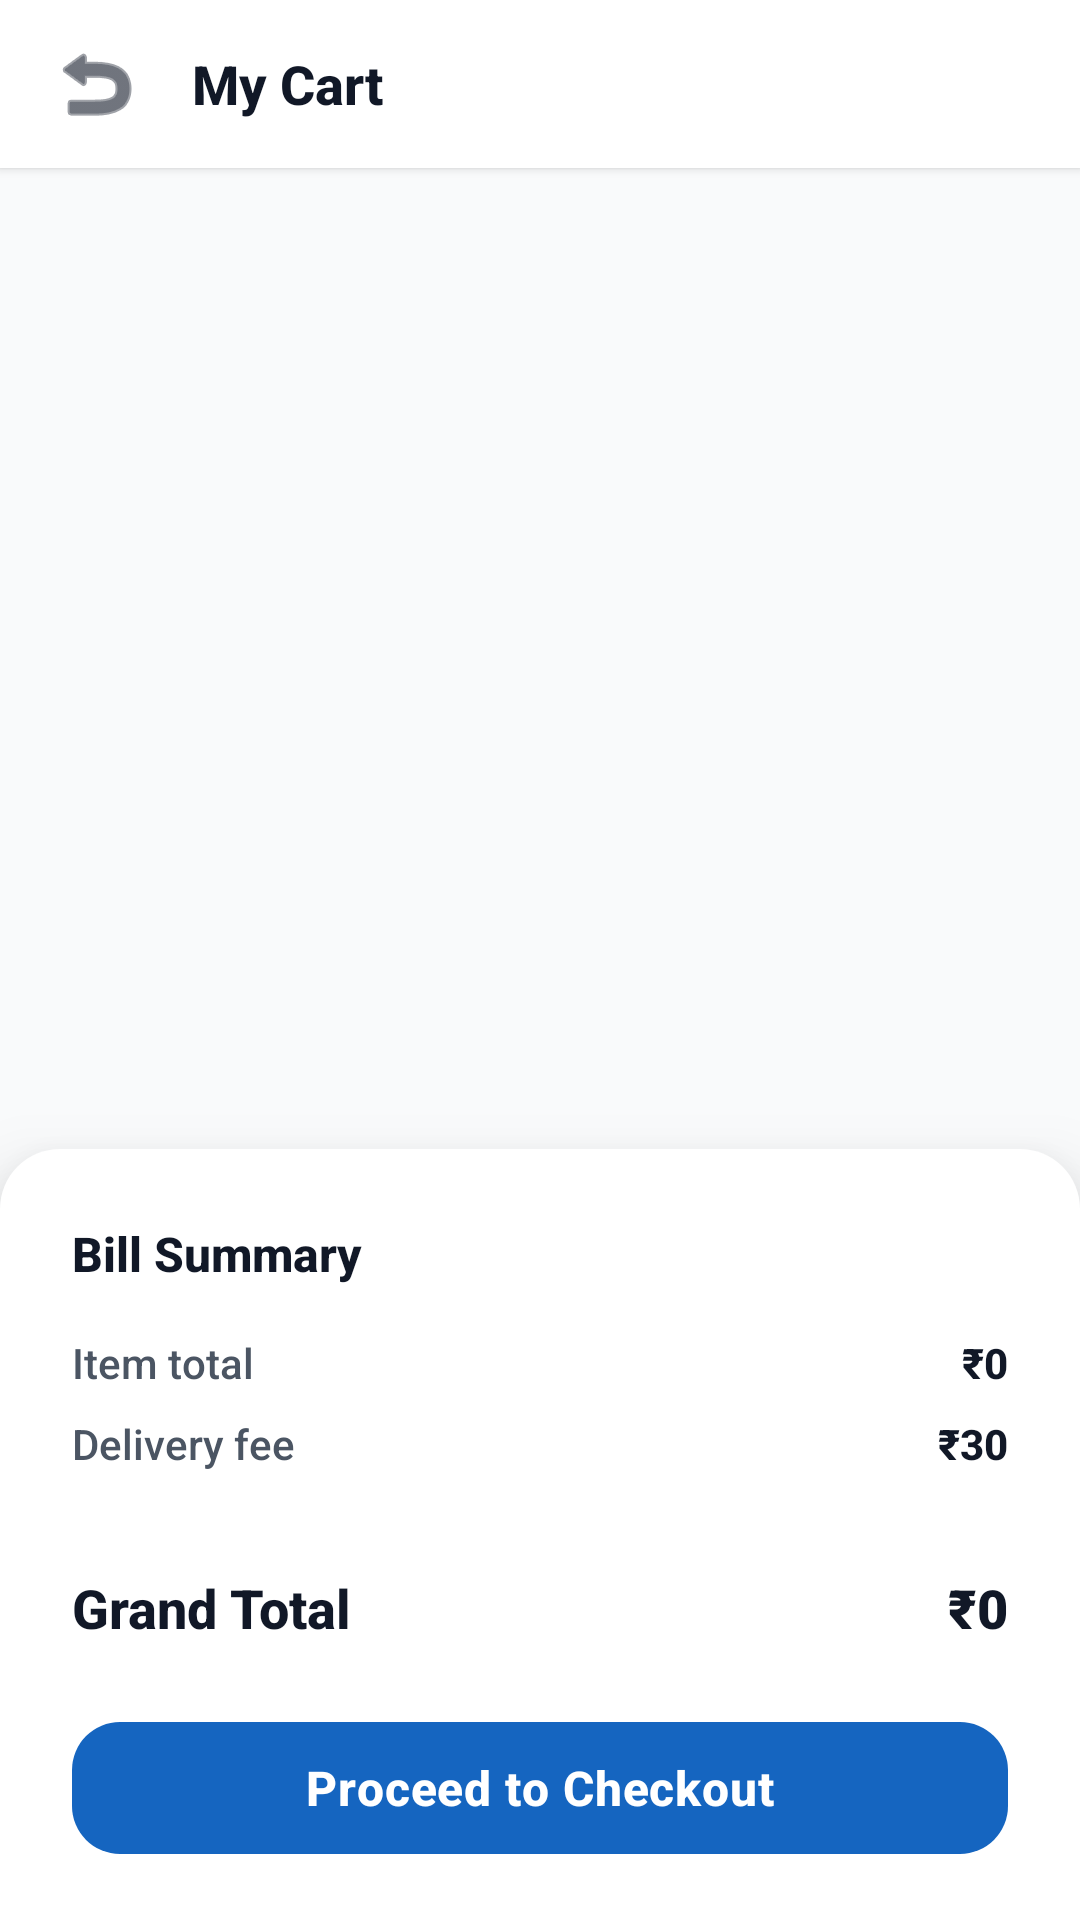

Locate icon controls on the screen. Image size 1080 x 1920, boxes as (x1,y1,x2,y2).
revert: (63,53,132,116)
